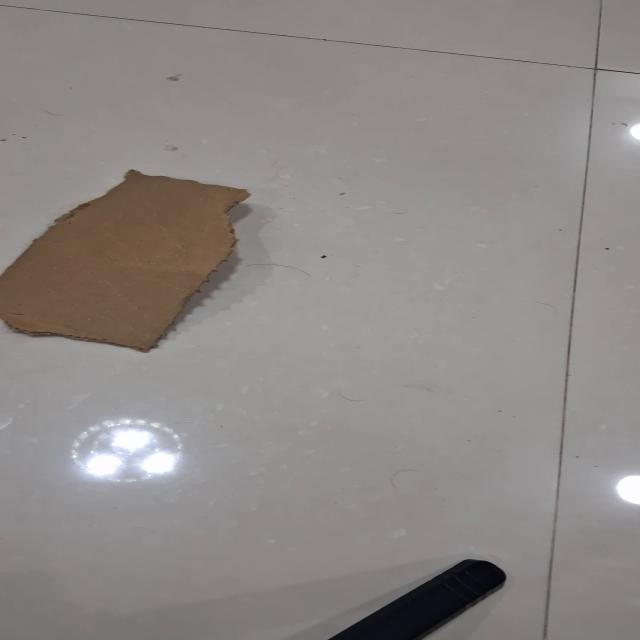paper: (1, 168, 250, 353)
